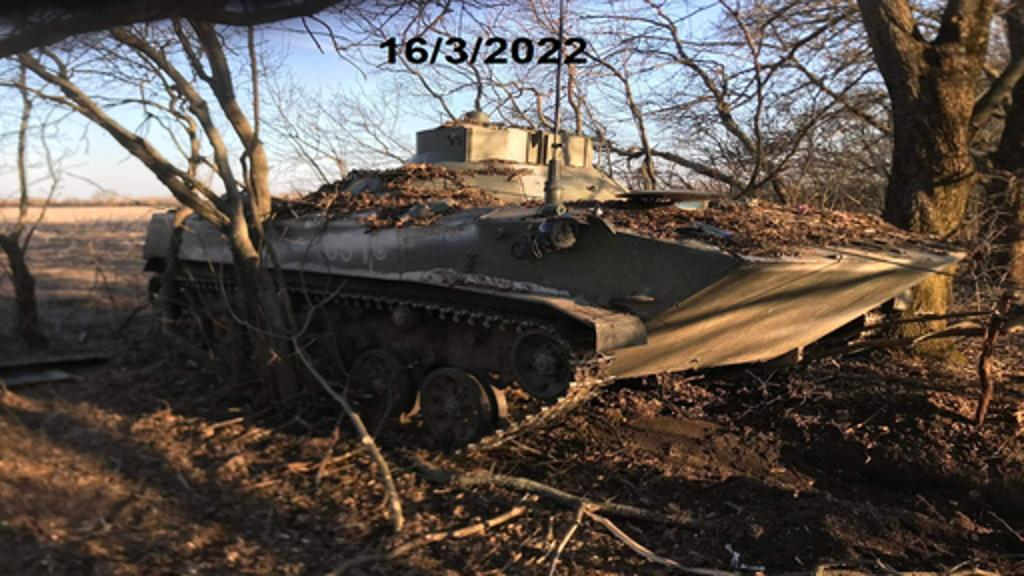APC-IFV: (142, 106, 966, 444)
